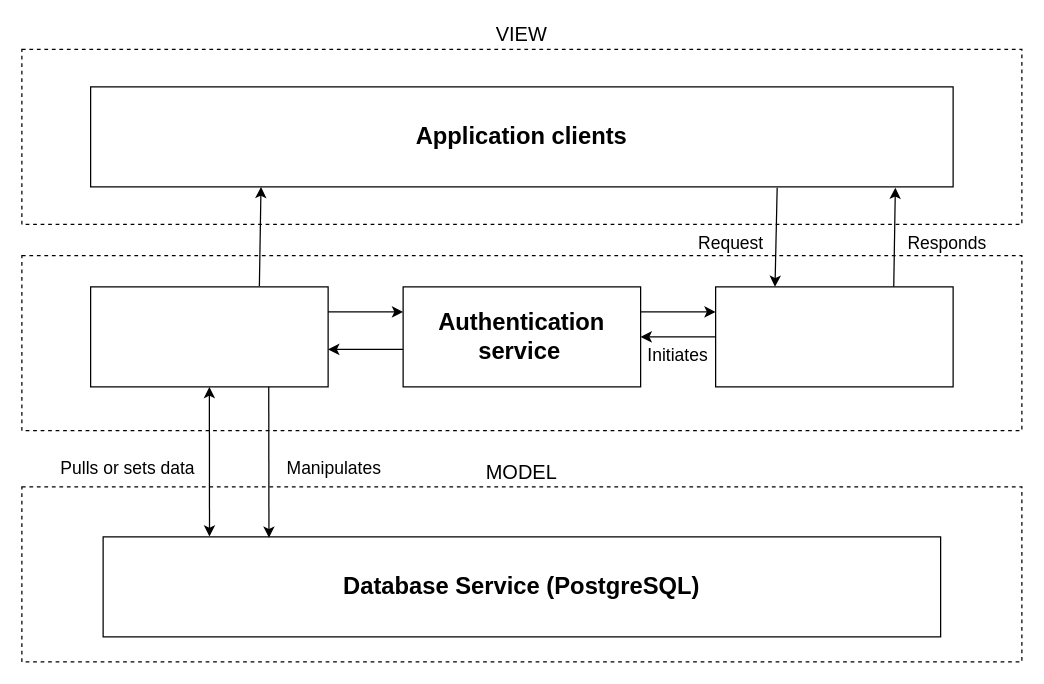
Image size: 1044x684. Some labels were removed from this diagram. Each missing label, with the box of its shape:
CONTROLLER: (21, 254, 1022, 431)
Message Service: (89, 286, 328, 387)
Webapp backend Controls the flow of data, handles the gets and sets,: (714, 286, 953, 387)
